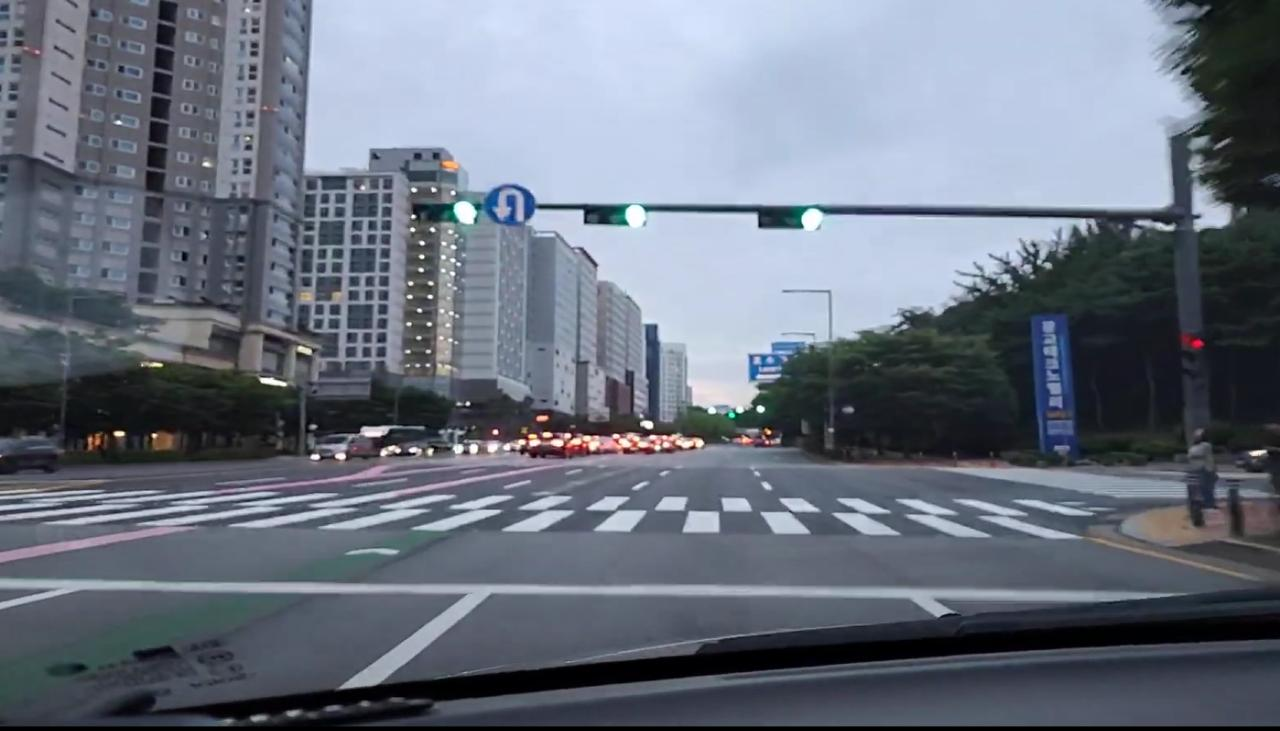Green Light: (452, 200, 479, 224), (799, 205, 824, 230), (624, 205, 648, 228)
